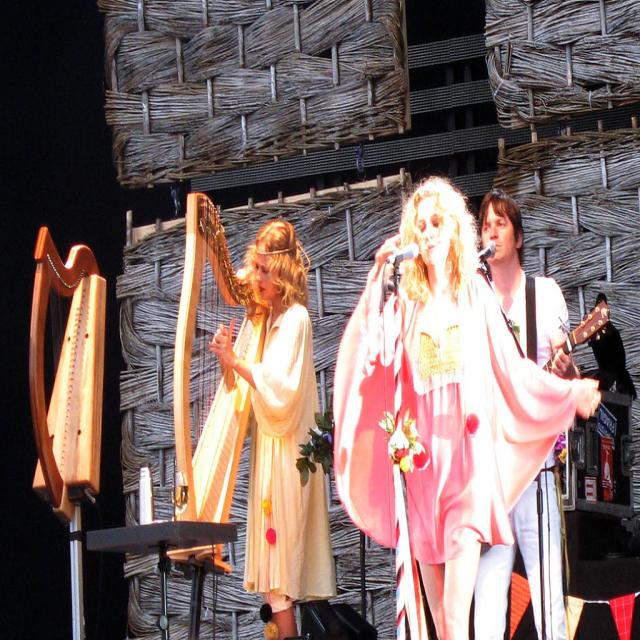guitar: (540, 300, 611, 380)
harp: (170, 189, 272, 568), (23, 222, 106, 514)
